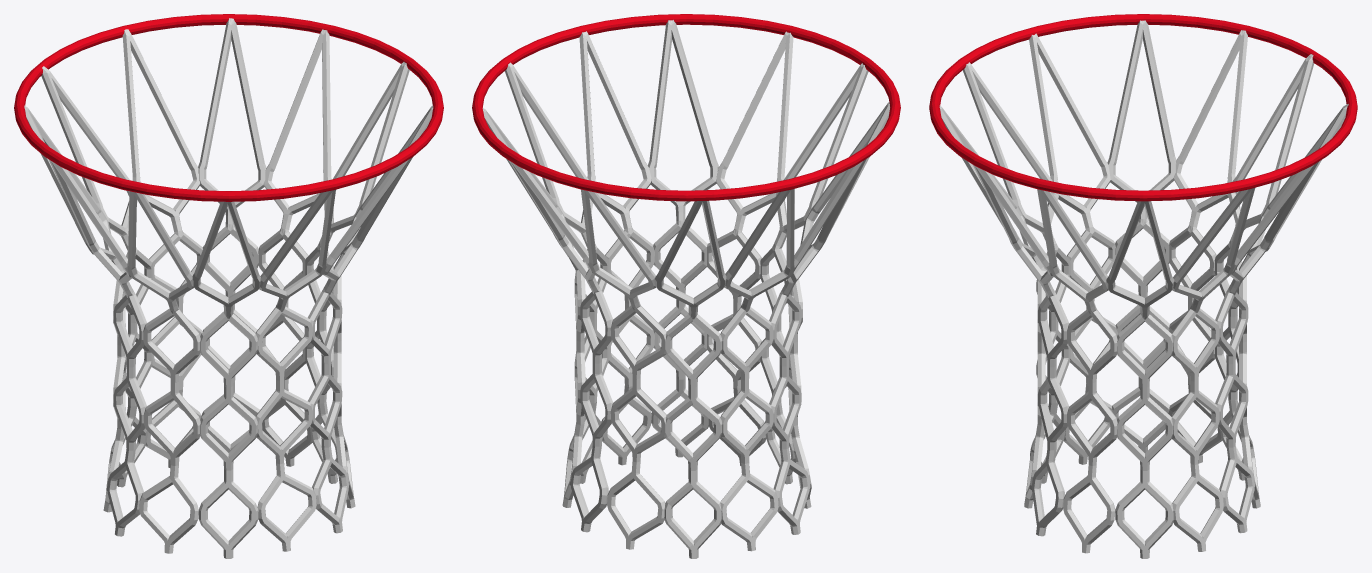
File: Basketball Hoop.fbx
3 renders of one model, left to right at view 1: azimuth 30°, elevation 25°; view 2: azimuth 150°, elevation 25°; view 3: azimuth 270°, elevation 25°, orthographic.
Parts seen in each view (by area): view 1: Hoop; view 2: Hoop; view 3: Hoop.
Part boxes in pixels (<box>): Hoop: <box>14,14,443,558</box>; Hoop: <box>472,14,900,558</box>; Hoop: <box>929,14,1357,558</box>.
Size of the model in its own units: 146 by 152 by 146.
